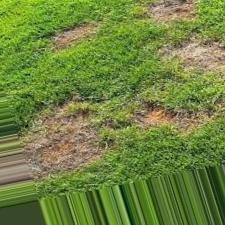patch: (26, 105, 109, 175), (172, 37, 225, 74), (132, 101, 187, 133), (147, 4, 194, 22), (56, 24, 94, 46)
